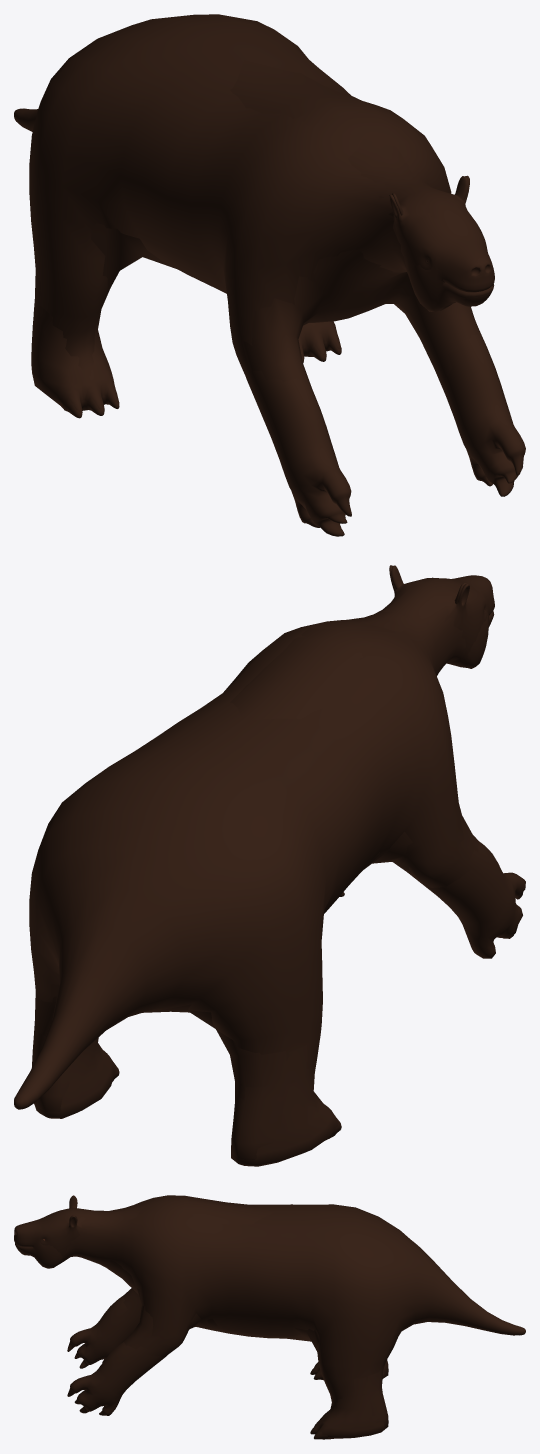
Rendered from Megatherium.fbx.
3 renders of one model, top to bottom at view 1: azimuth 30°, elevation 25°; view 2: azimuth 150°, elevation 25°; view 3: azimuth 270°, elevation 25°, orthographic. The views are drawn at different scales.
Visible parts, largest first — view 1: Cube, Cube.002; view 2: Cube, Cube.002; view 3: Cube, Cube.002.
Part boxes in pixels (x1,y1,x2,y2): Cube: (14,14,525,536); Cube.002: (31,60,511,474); Cube: (14,565,525,1159); Cube.002: (32,565,511,1166); Cube: (14,1195,525,1439); Cube.002: (16,1195,411,1438).
Bounding box in the file's own units: 172 × 218 × 494.
